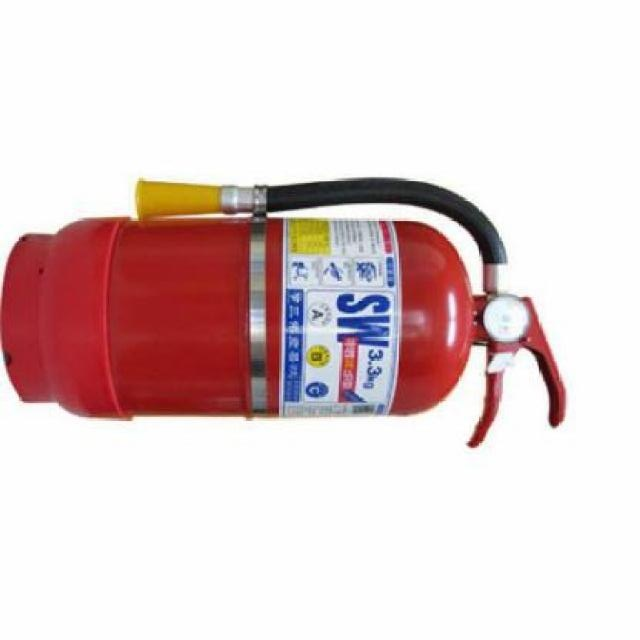fire extinguisher: (0, 177, 568, 449)
